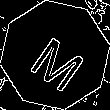M_NE: (22, 21, 88, 89)
